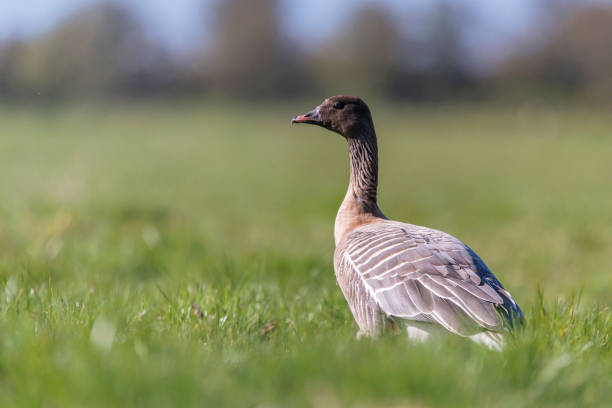goose: (285, 89, 531, 371)
